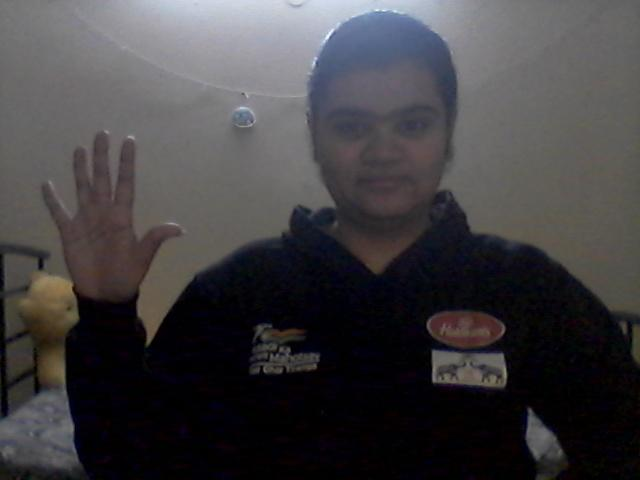hello: (23, 130, 189, 306)
